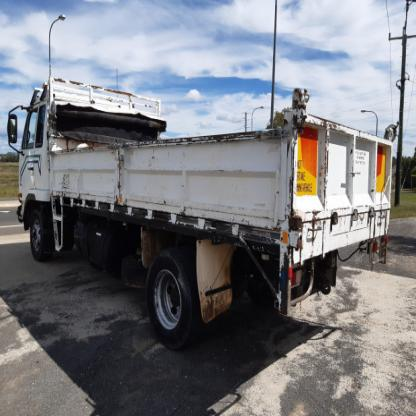dump_truck: (7, 67, 392, 352)
